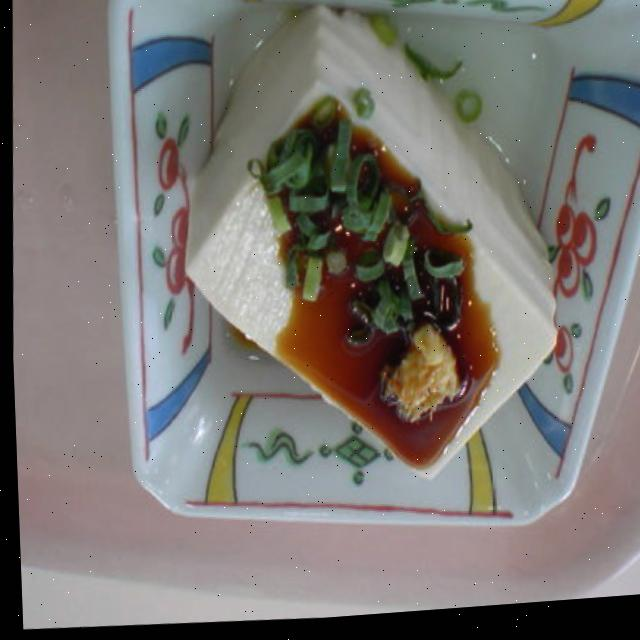豆腐料理: (93, 0, 640, 566)
